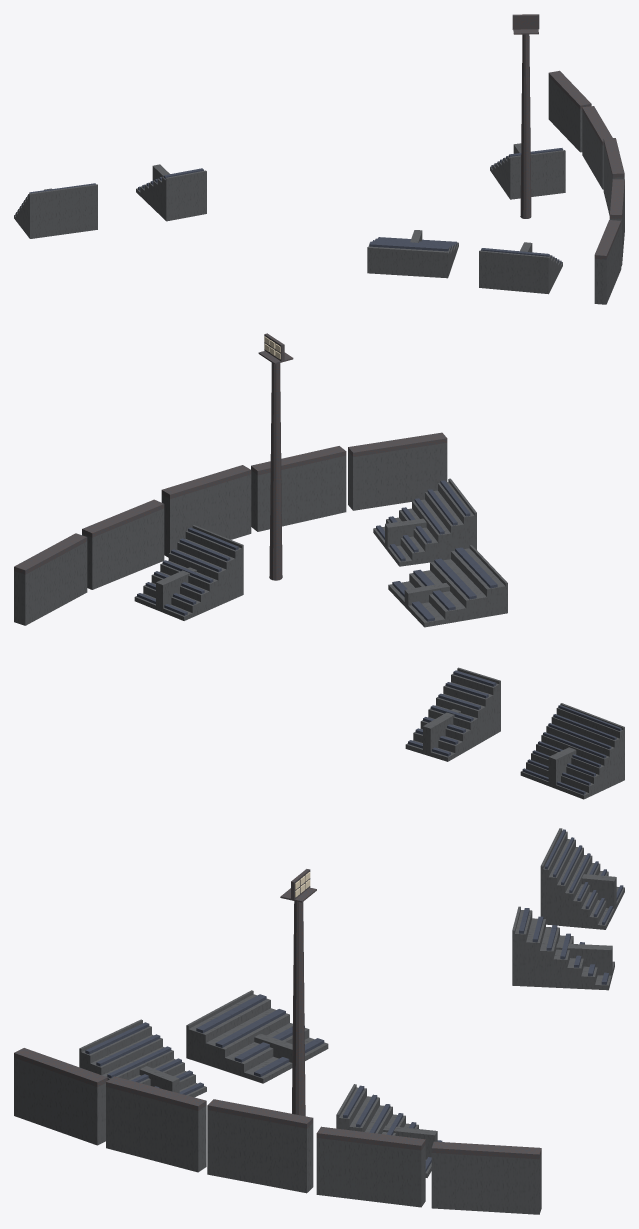
Rendered from SM_City_AlHalqa_7.fbx.
The picture shows the model from 3 angles, top to bottom: view 1: azimuth 30°, elevation 25°; view 2: azimuth 150°, elevation 25°; view 3: azimuth 270°, elevation 25°; orthographic projection. The views are drawn at different scales.
Parts seen in each view (by area): view 1: SM_City_AlHalqa_7; view 2: SM_City_AlHalqa_7; view 3: SM_City_AlHalqa_7.
Part boxes in pixels (box(x1,y1,x2,y2)): SM_City_AlHalqa_7: box(14, 14, 624, 304); SM_City_AlHalqa_7: box(14, 333, 624, 799); SM_City_AlHalqa_7: box(14, 828, 624, 1214).
Size of the model in its own units: 5914 by 2177 by 4644.
Materials: 5 (5 with a texture image).
